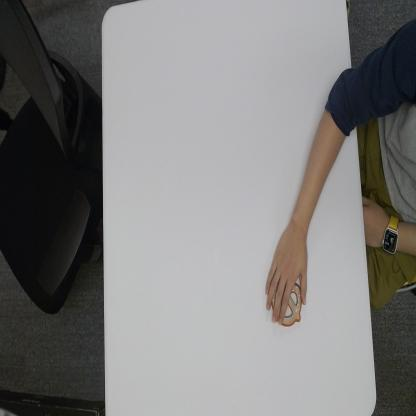Arm: (292, 58, 360, 232)
Hand: (263, 221, 309, 314)
Pretzel: (272, 284, 304, 326)
